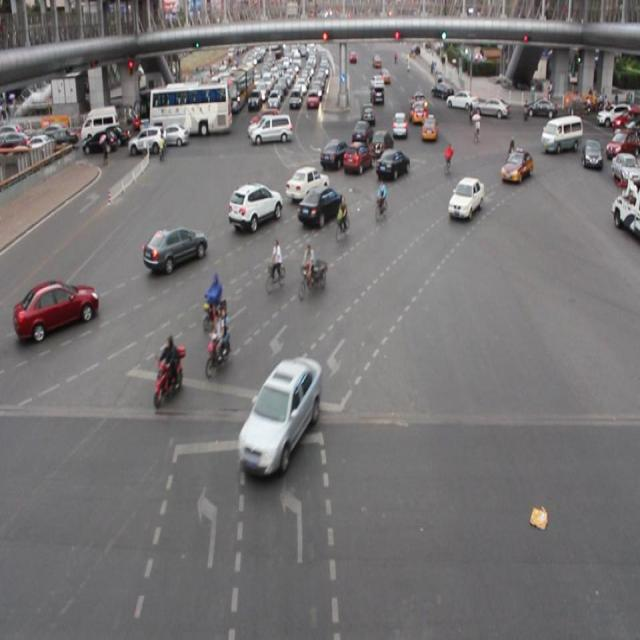car: (238, 360, 319, 465), (14, 276, 100, 340), (142, 224, 207, 271), (228, 182, 282, 229), (296, 184, 343, 226), (286, 165, 329, 204), (448, 176, 483, 221), (500, 148, 532, 185), (375, 147, 408, 180), (342, 142, 372, 174), (320, 138, 350, 169), (369, 128, 394, 158)
truck: (540, 114, 582, 155)
